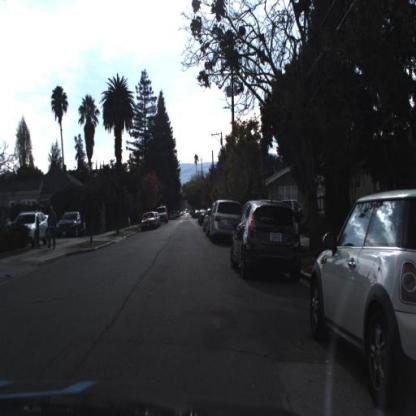car: (311, 196, 416, 404), (229, 196, 306, 285), (209, 199, 244, 246), (14, 209, 50, 247), (56, 210, 86, 238), (139, 213, 157, 231), (157, 205, 169, 220)
pedestrian: (48, 207, 57, 250)
